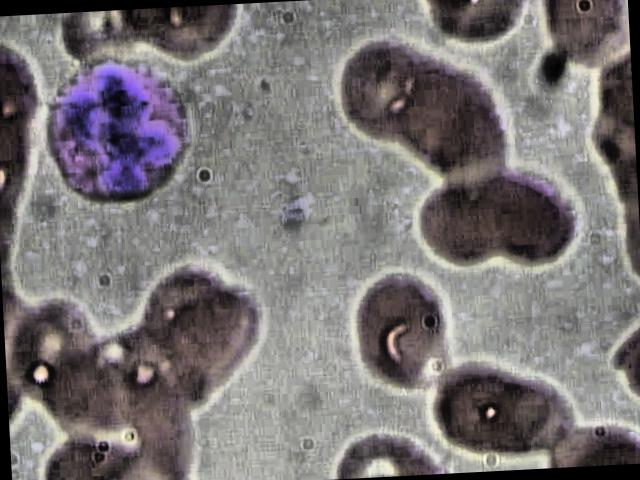Platelets: (264, 191, 316, 231)
RBC: (423, 358, 583, 456), (330, 32, 440, 155), (346, 268, 456, 390), (468, 161, 582, 267), (414, 166, 506, 272)
WBC: (30, 47, 220, 220)
